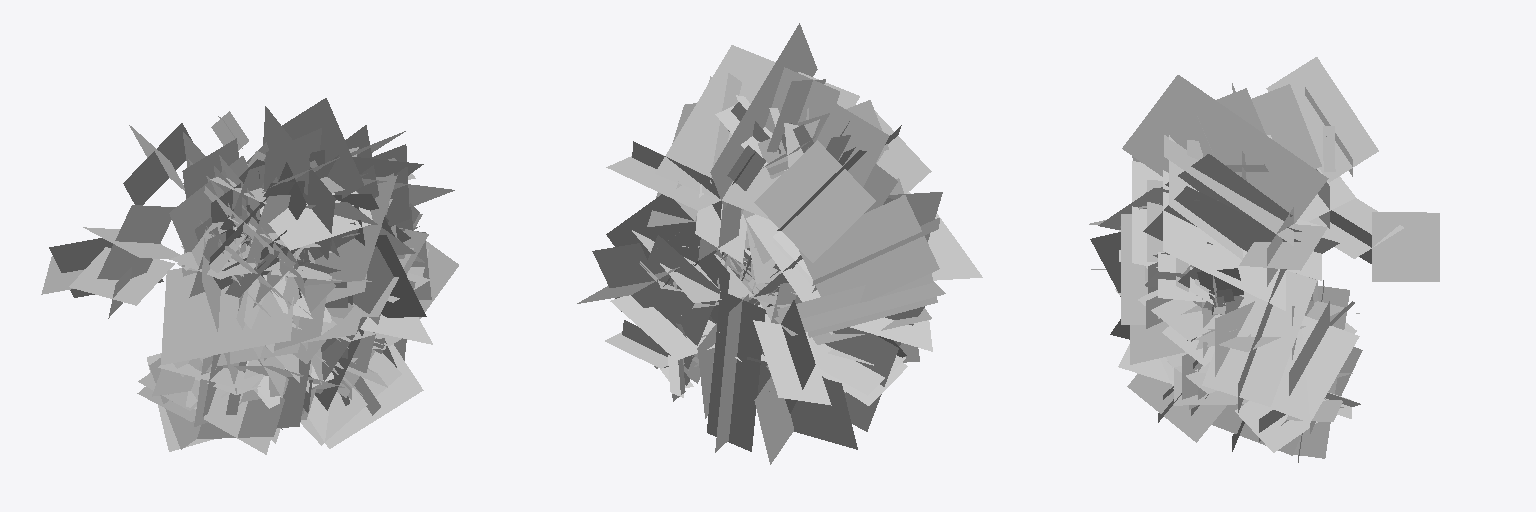
File: billboards_lod3.obj
The picture shows the model from 3 angles: view 1: azimuth 30°, elevation 25°; view 2: azimuth 150°, elevation 25°; view 3: azimuth 270°, elevation 25°; orthographic projection.
Size of the model in its own units: 32.35 by 32.35 by 29.68.